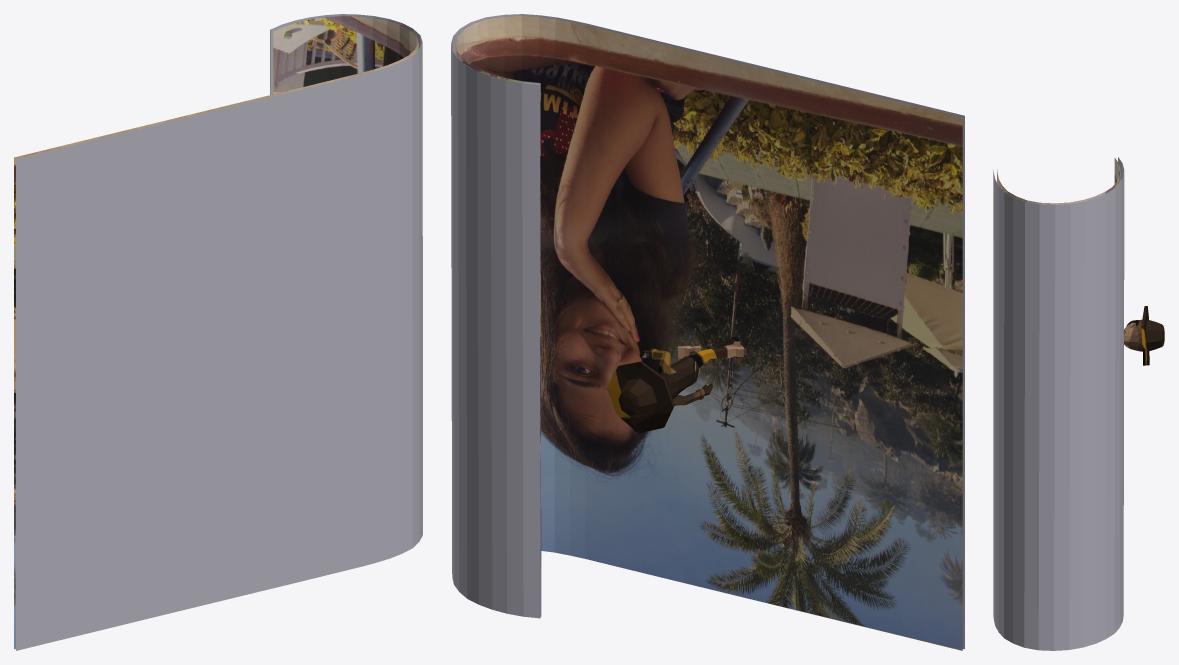
File: start_file2_000059.obj
3 views of the same model, side by side, from view 1: azimuth 30°, elevation 25°; view 2: azimuth 150°, elevation 25°; view 3: azimuth 270°, elevation 25° (orthographic). The views are drawn at different scales.
Parts seen in each view (by area): view 1: Cube_Cube.001; view 2: Cube_Cube.001, Character_Cube; view 3: Cube_Cube.001, Character_Cube.
Boxes of the visible parts, box(x1,y1,x2,y2) form: Cube_Cube.001: box(14, 14, 422, 650); Cube_Cube.001: box(451, 14, 964, 650); Character_Cube: box(607, 336, 744, 433); Cube_Cube.001: box(993, 157, 1124, 650); Character_Cube: box(1124, 306, 1164, 365).
Bounding box in the file's own units: 1.4 × 1.52 × 0.5313.
2 materials, 2 textured.
